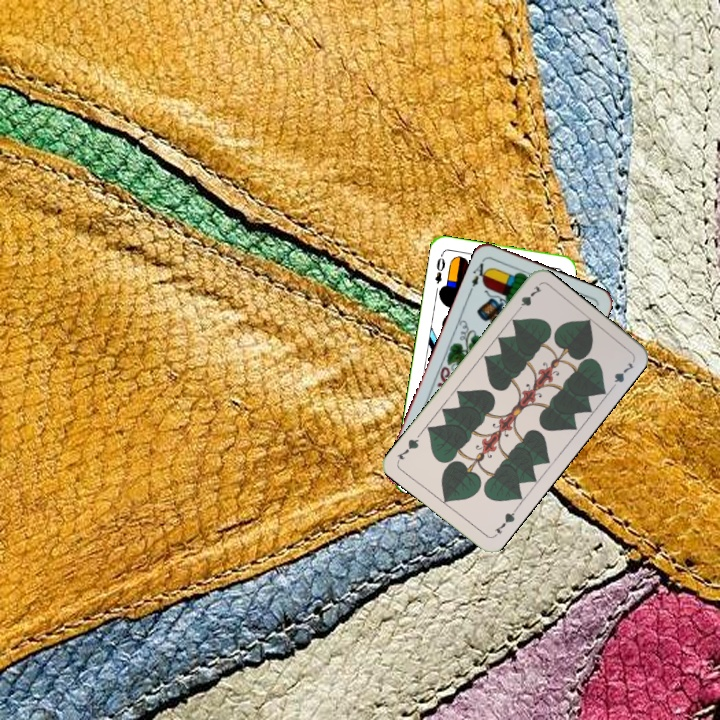EA: (466, 256, 492, 295)
EO: (431, 250, 447, 286)
G7: (511, 281, 544, 316), (490, 505, 520, 539)
